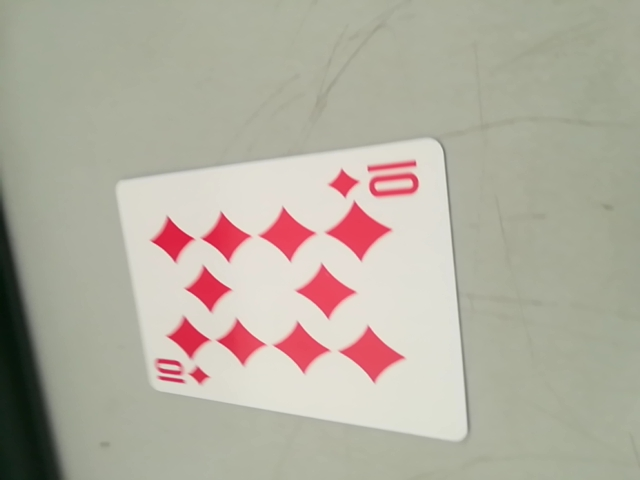fk 10: (330, 154, 427, 206), (153, 351, 215, 395)
